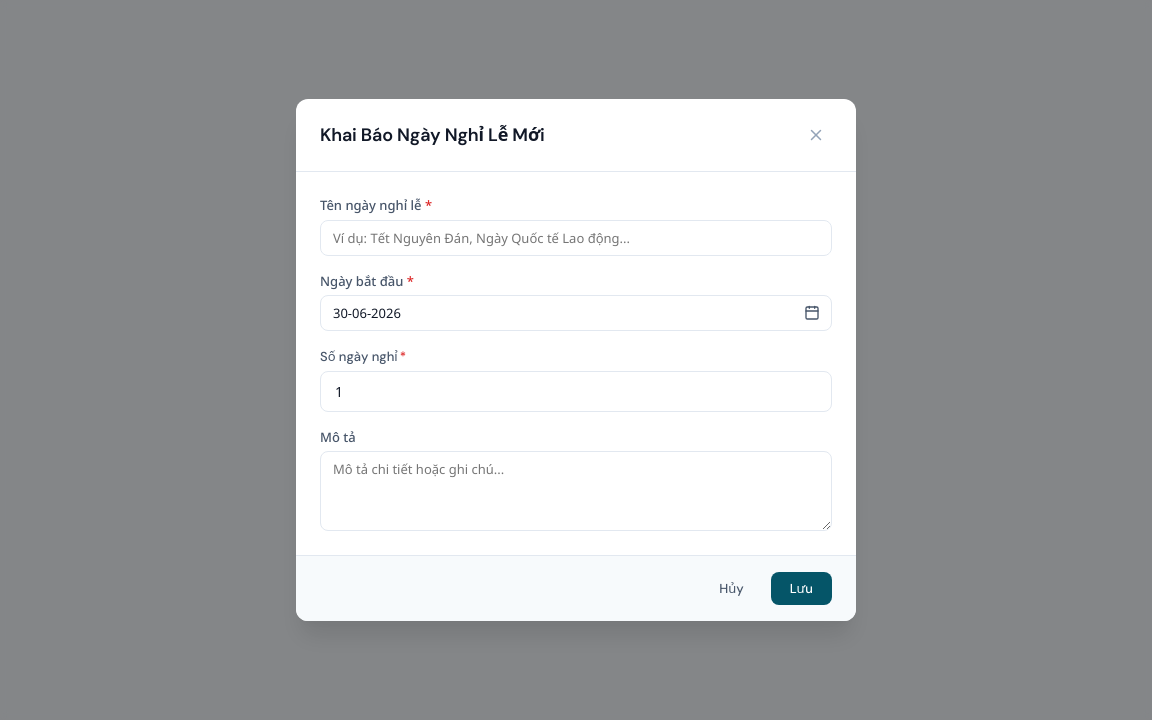
Test: PublicHolidayFormModal › blocks negative or decimal values for days
Type "Ngày lễ test" into the field labelled "Tên ngày nghỉ lễ *". click: (576, 238)
box: [320,220,832,256]
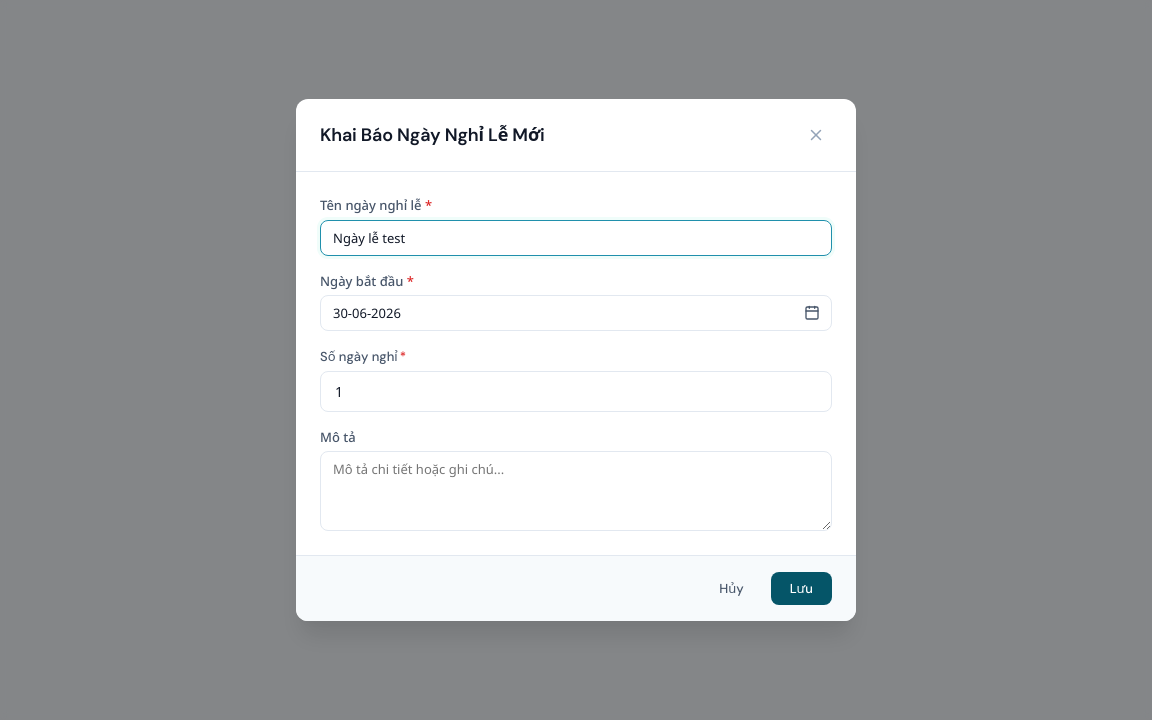
Replace the text in the number field labelled "Số ngày nghỉ*" with "0". click: (576, 391)
box: [320,370,832,412]
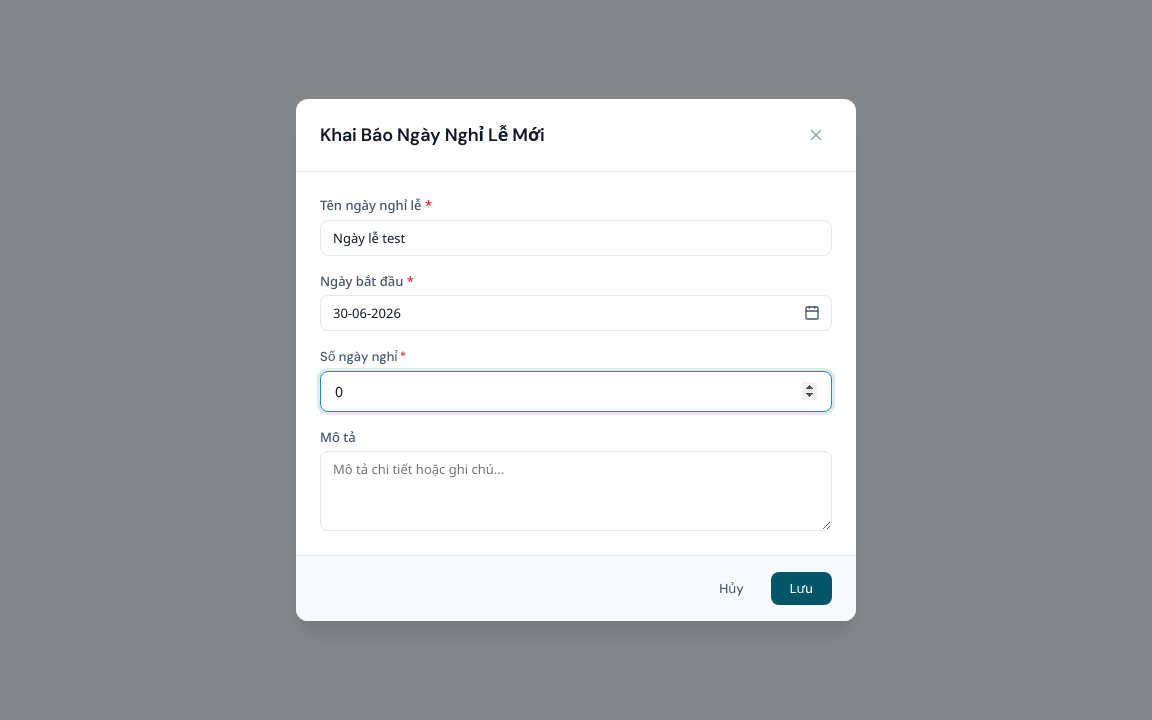
Click the button "Lưu". click: (801, 588)
box: [771,572,832,605]
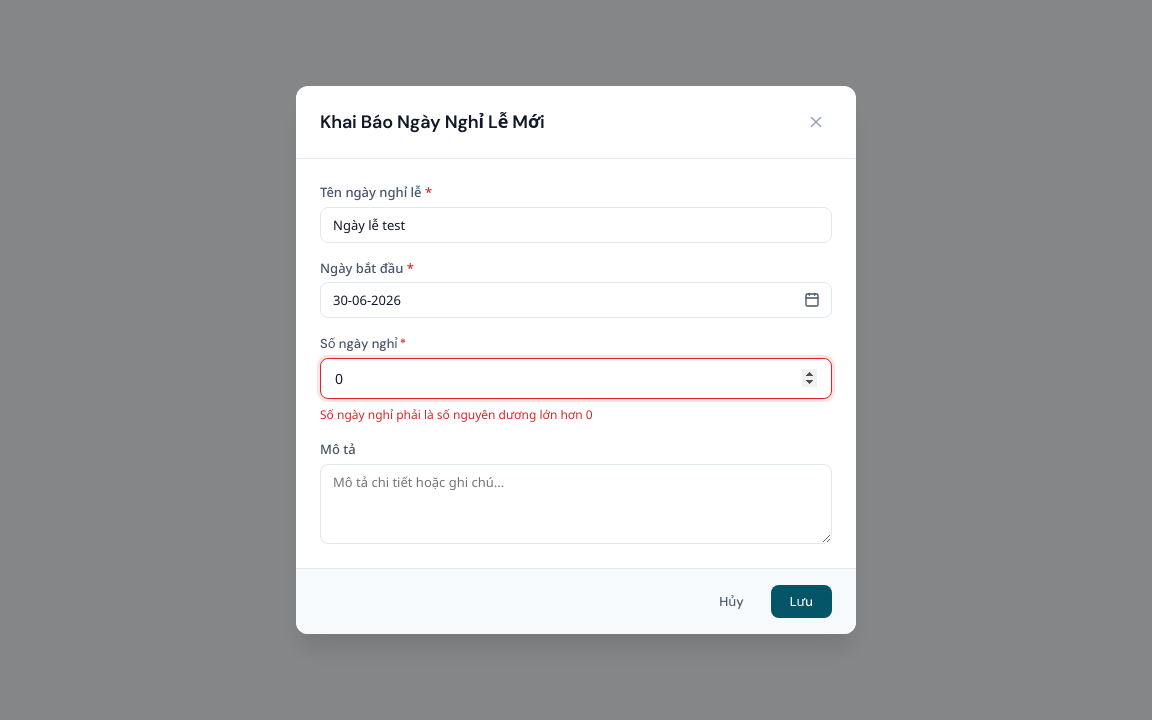
Expected: the text "Số ngày nghỉ phải là số nguyên dương lớn hơn 0" is shown, [320,406,593,423]
